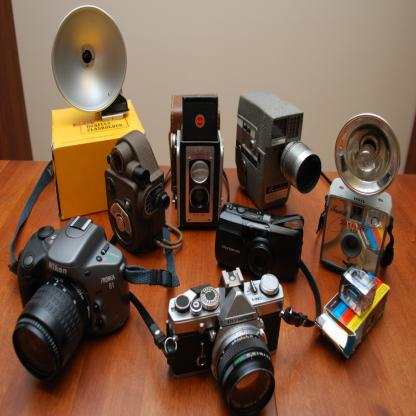Camera: (11, 92, 404, 414)
